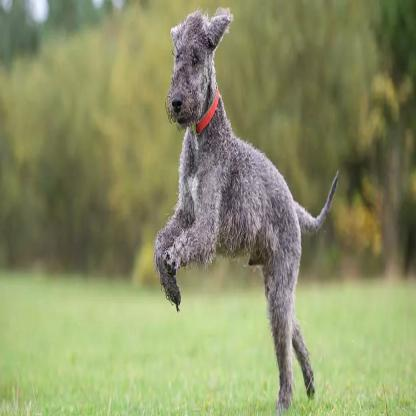Bedlington Terrier: (144, 21, 336, 416)
